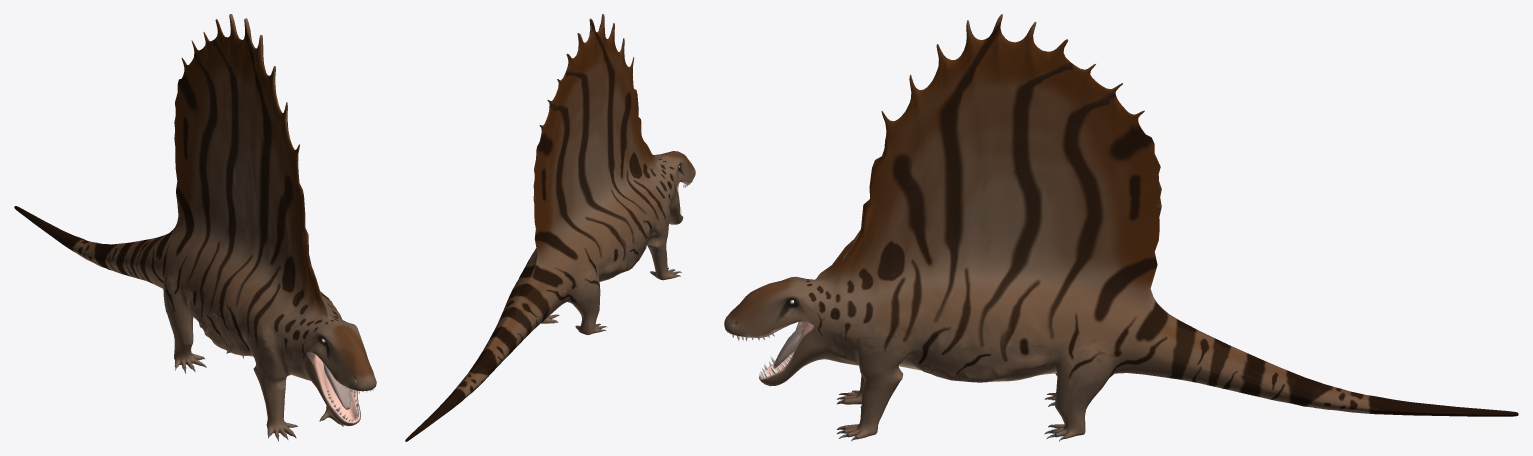
The model's file is dimetrodonte_parado.glb.
The picture shows the model from 3 angles, left to right: view 1: azimuth 30°, elevation 25°; view 2: azimuth 150°, elevation 25°; view 3: azimuth 270°, elevation 25°; orthographic projection. The views are drawn at different scales.
Visible parts, largest first — view 1: dimetrodon_Material_0_fixo; view 2: dimetrodon_Material_0_fixo; view 3: dimetrodon_Material_0_fixo.
Part boxes in pixels (box(x1,y1,x2,y2)): dimetrodon_Material_0_fixo: box(14, 14, 376, 441); dimetrodon_Material_0_fixo: box(405, 14, 695, 441); dimetrodon_Material_0_fixo: box(724, 14, 1518, 441).
Size of the model in its own units: 0.5564 by 2.11 by 3.77.
Materials: 3 (1 with a texture image).
